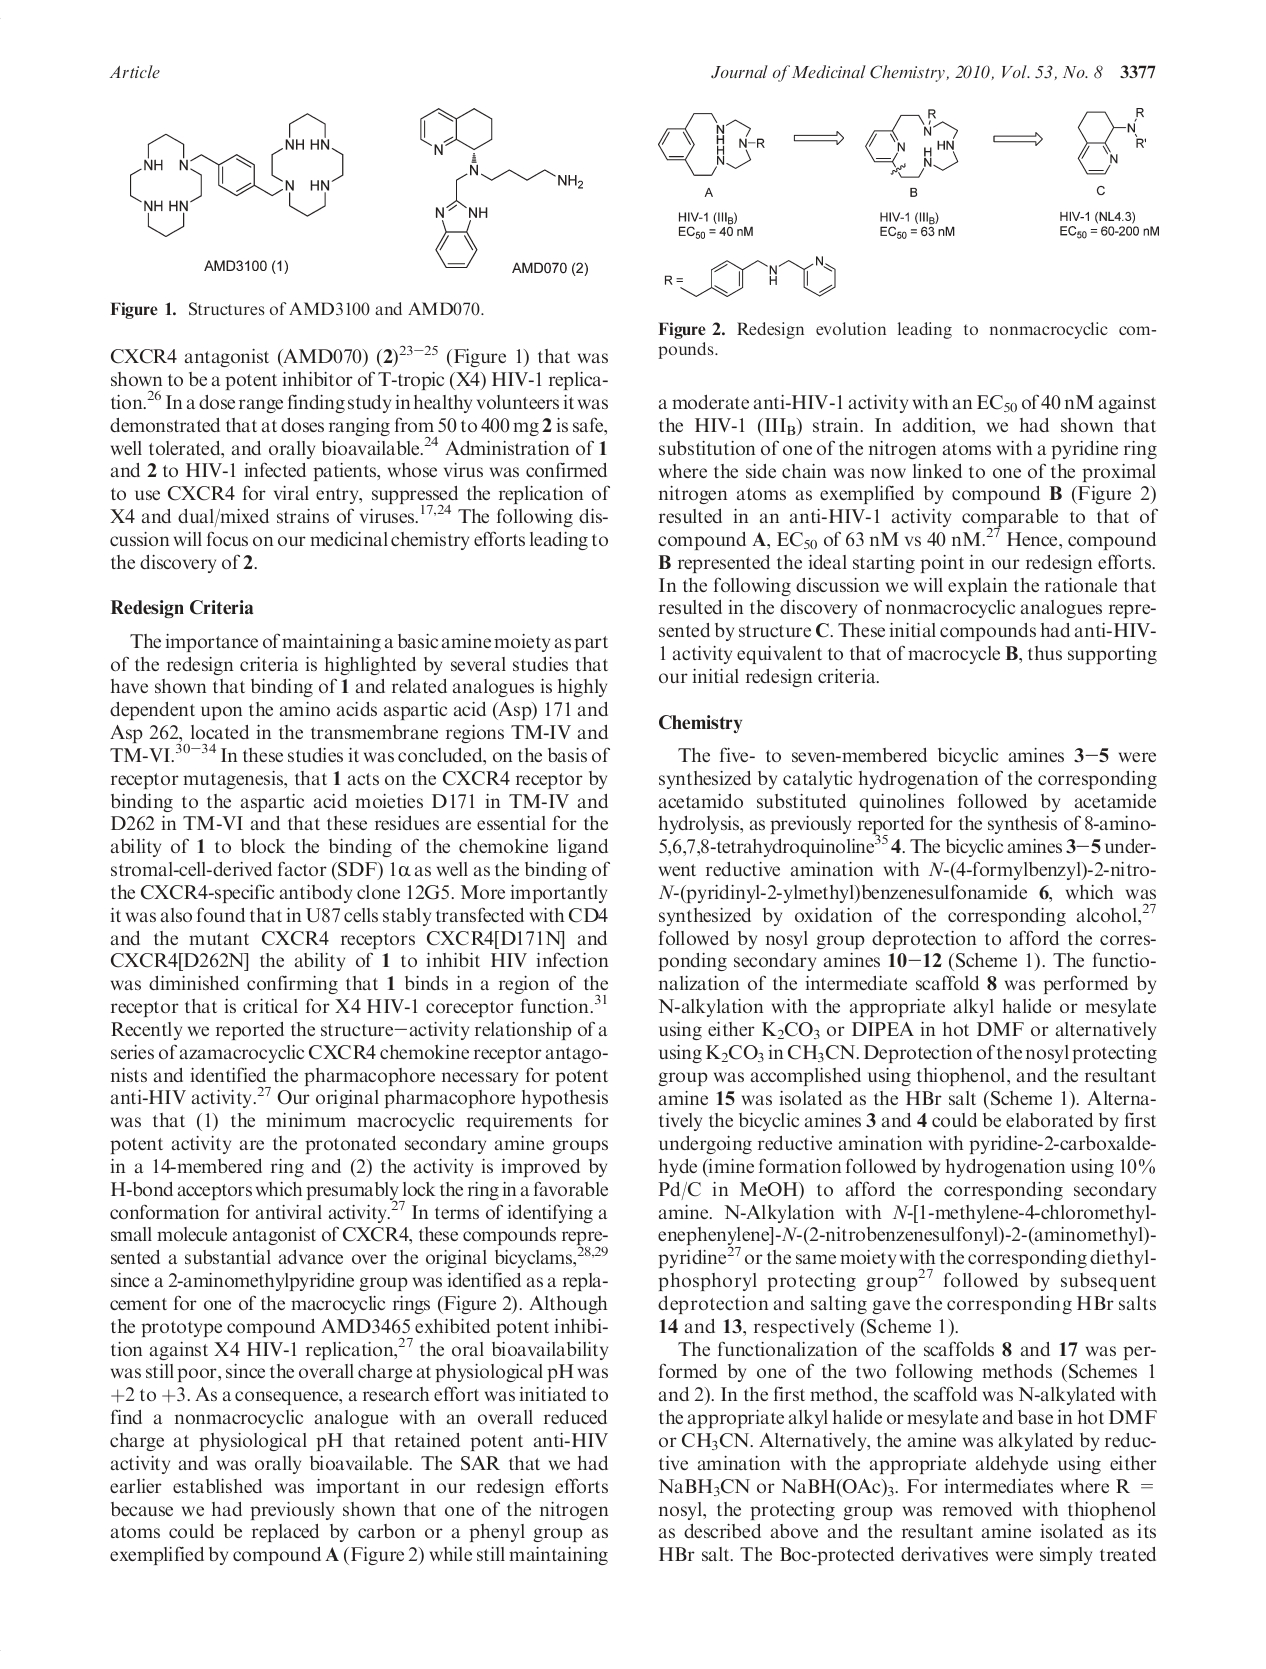exist_molecular: (121, 105, 350, 245), (416, 104, 601, 271), (656, 104, 782, 190), (664, 249, 848, 302), (859, 106, 977, 180), (1069, 102, 1161, 184)
